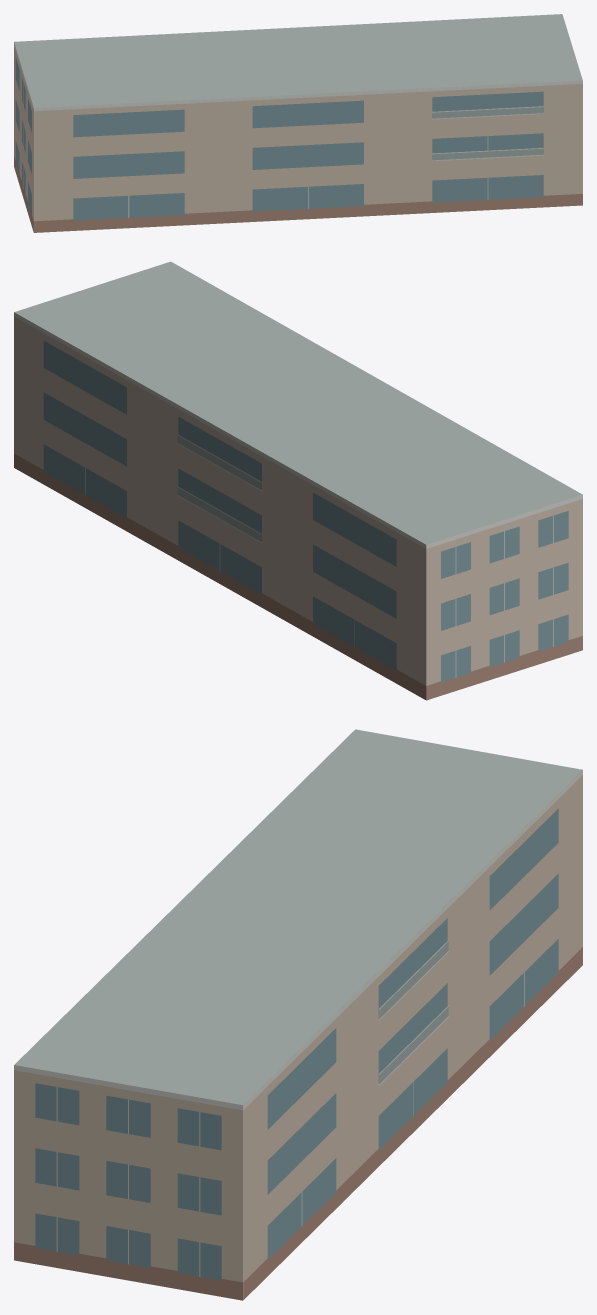
Rendered from survey-upis-32753310.glb.
3 views of the same model, one above another, from view 1: azimuth 30°, elevation 25°; view 2: azimuth 150°, elevation 25°; view 3: azimuth 270°, elevation 25° (orthographic). The views are drawn at different scales.
Parts seen in each view (by area): view 1: survey-upis-32753310.tmp; view 2: survey-upis-32753310.tmp; view 3: survey-upis-32753310.tmp.
Part boxes in pixels (bbox=[...]): survey-upis-32753310.tmp: bbox=[14, 14, 582, 232]; survey-upis-32753310.tmp: bbox=[14, 261, 582, 700]; survey-upis-32753310.tmp: bbox=[14, 729, 582, 1300].
Size of the model in its own units: 37.76 by 9.15 by 24.15.
